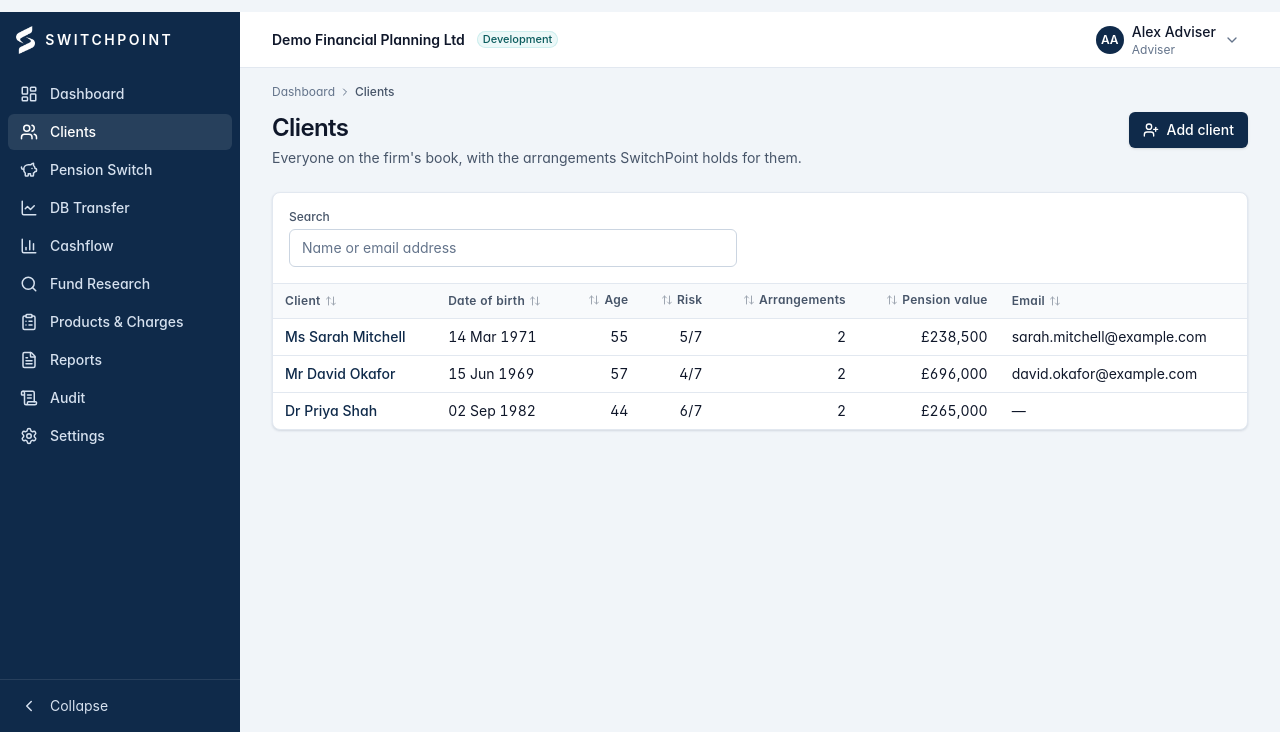
Scenario: clients › filters the list from the search box
Expected: the link "Ms Sarah Mitchell" is shown, [285,328,406,345]
In the search field labelled "Search": (513, 248) [289,229,737,267], type "okafor"
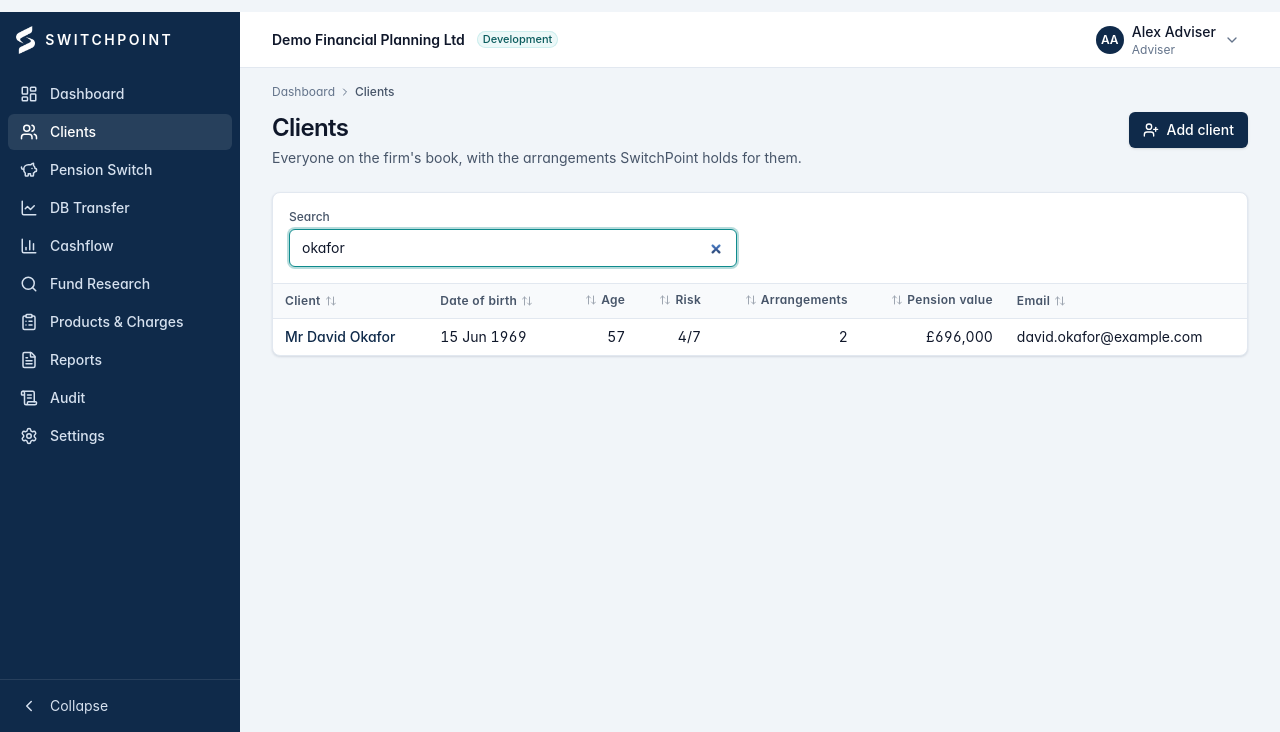
Expected: the link "Mr David Okafor" is shown, [285,328,395,345]
Expected: the link "Ms Sarah Mitchell" is gone
